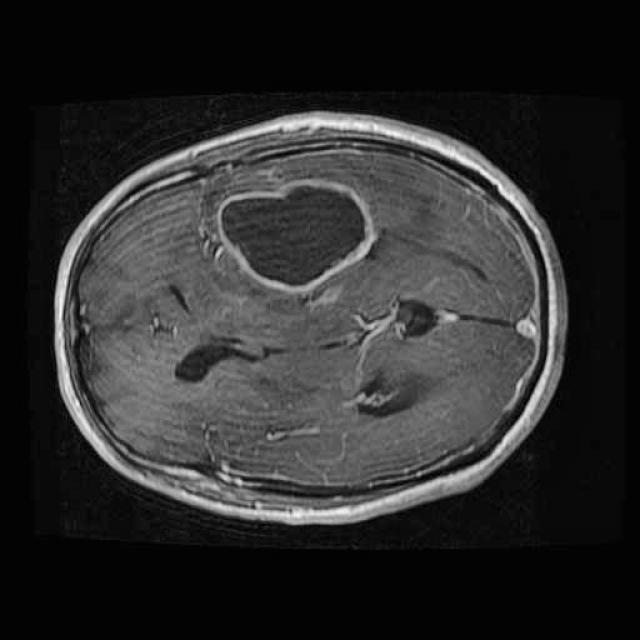Tumor: (208, 168, 384, 300)
